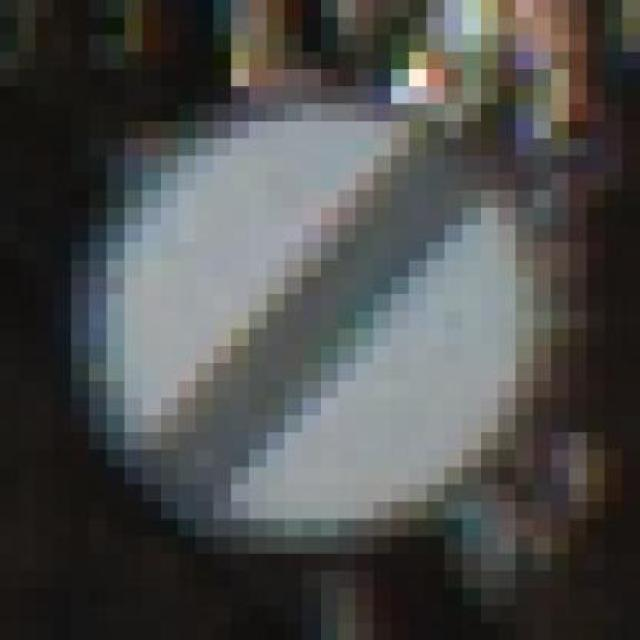End of all speed and passing limits: (71, 86, 569, 537)
